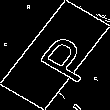P_NW: (19, 25, 91, 85)
